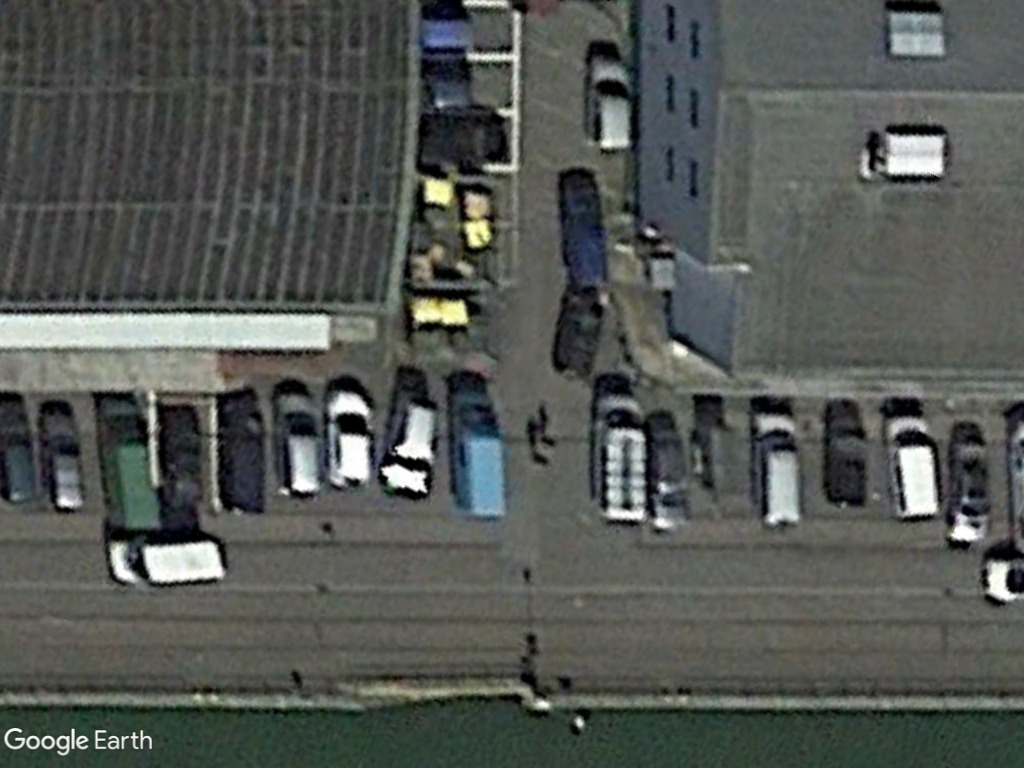car: (269, 384, 326, 500), (321, 380, 380, 492)
van: (101, 535, 232, 594), (880, 410, 946, 526), (746, 403, 805, 532), (581, 51, 637, 156)
